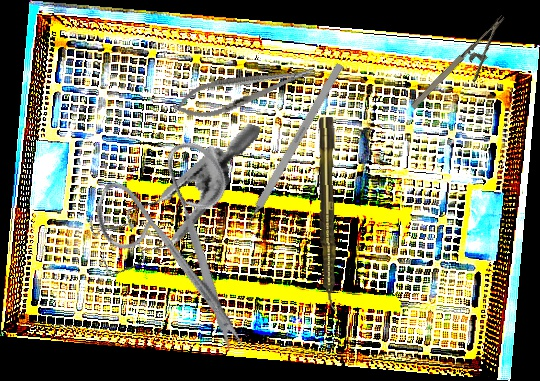Handpiece: (317, 116, 339, 312)
Hook Surgical: (234, 62, 345, 243)
Iris Scissors: (63, 115, 313, 358)
Needle Holder: (407, 14, 524, 125), (169, 54, 320, 127)
Speculum: (74, 84, 262, 306)
